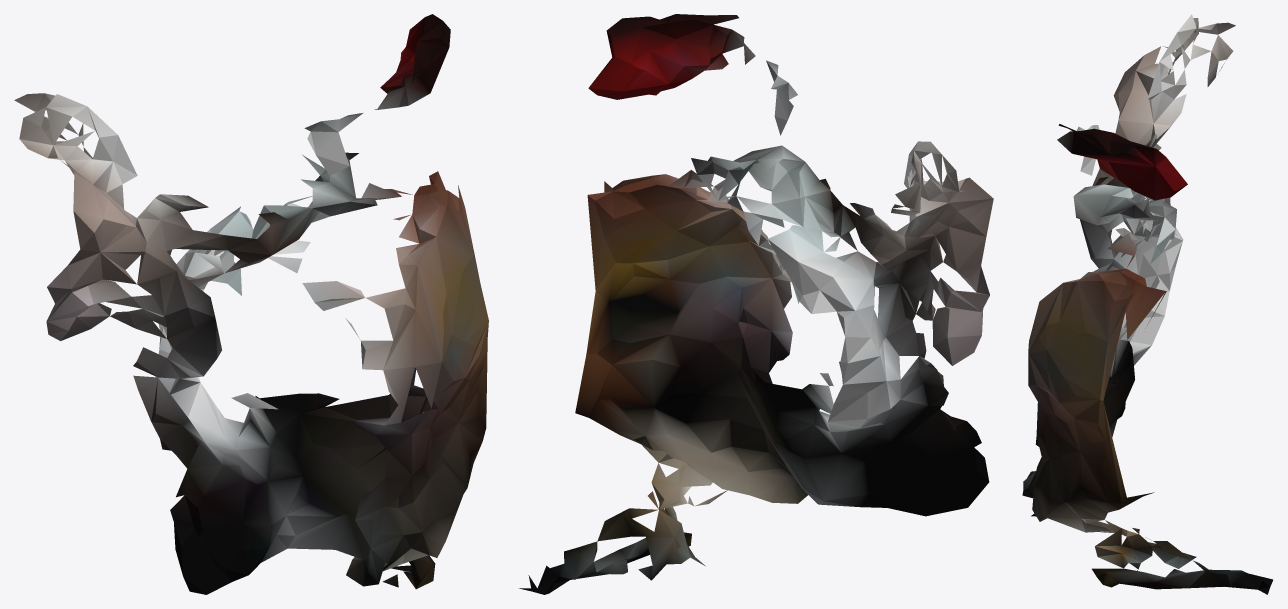
Rendered from prep_run__fridge_side_drawer_2.scan.glb.
3 renders of one model, left to right at view 1: azimuth 30°, elevation 25°; view 2: azimuth 150°, elevation 25°; view 3: azimuth 270°, elevation 25°, orthographic. The views are drawn at different scales.
Visible parts, largest first — view 1: geometry_0; view 2: geometry_0; view 3: geometry_0.
Part boxes in pixels (x1,y1,x2,y2): geometry_0: (14, 14, 488, 594); geometry_0: (519, 14, 993, 594); geometry_0: (1022, 14, 1272, 594).
Bounding box in the file's own units: 0.3912 × 0.4852 × 0.2412.
